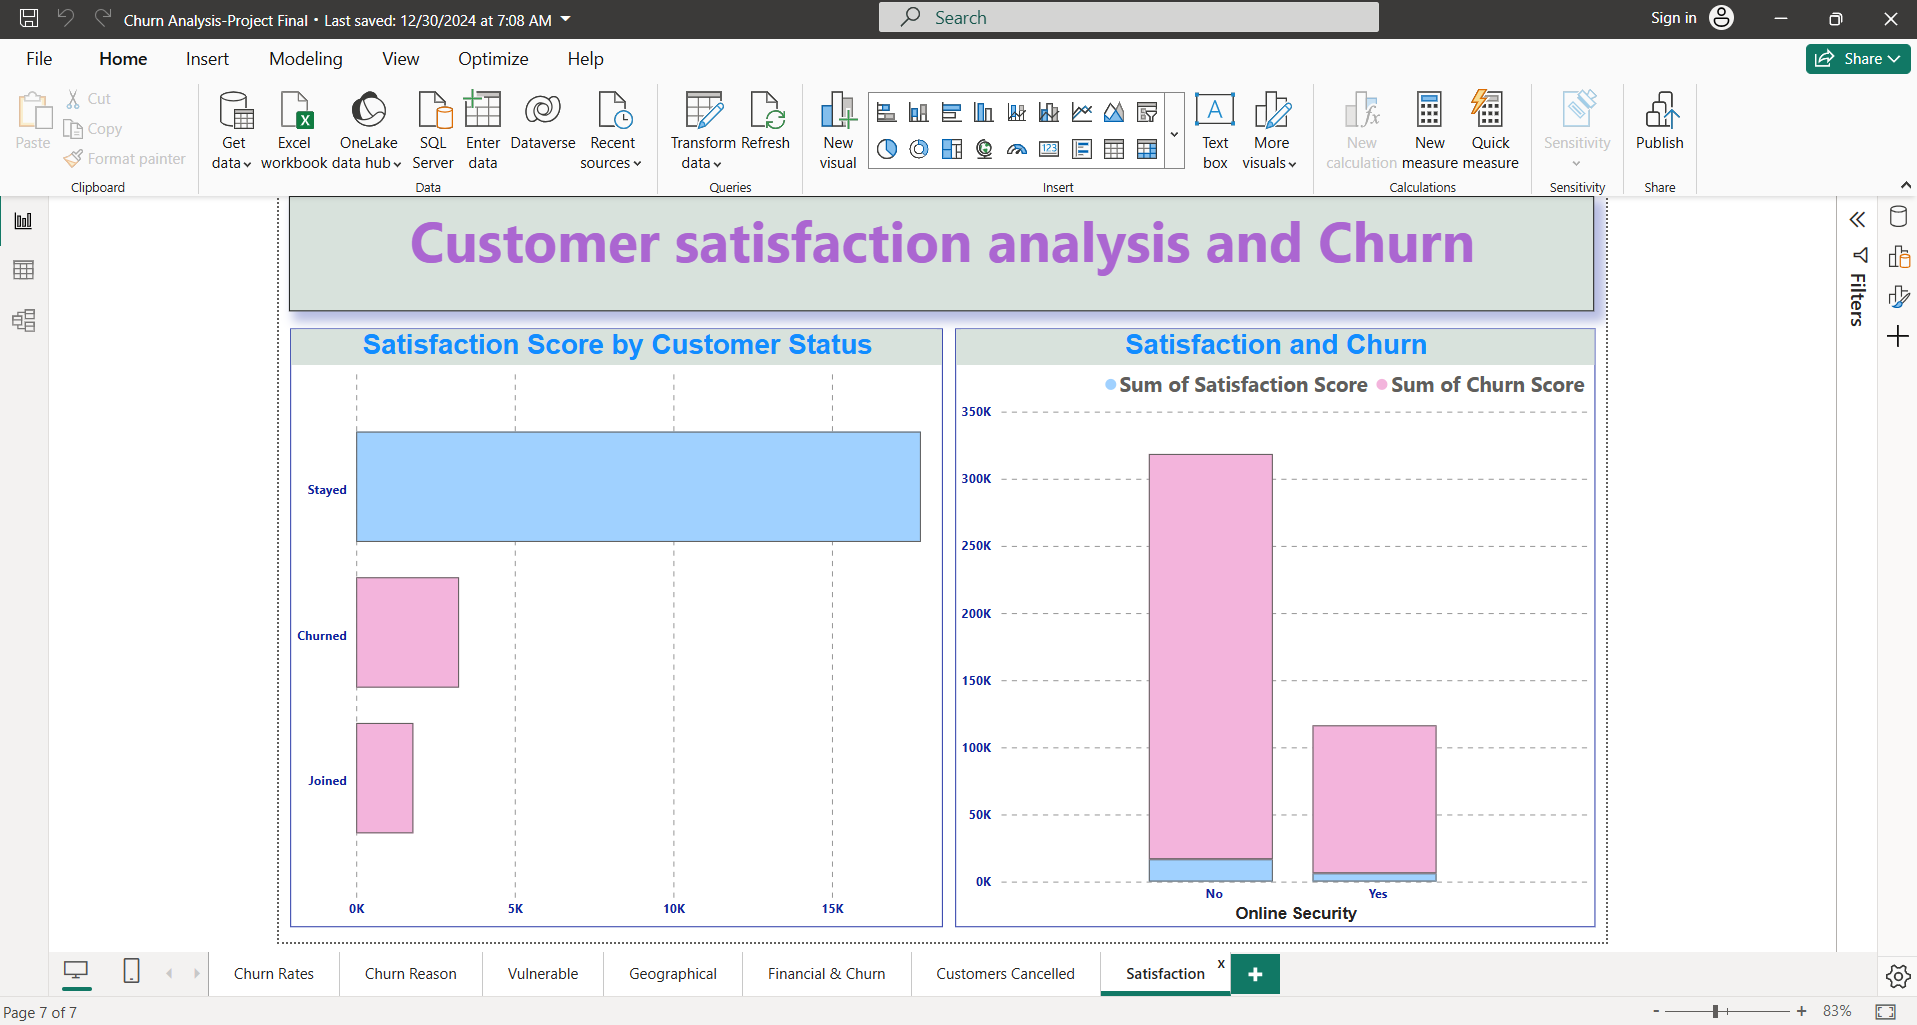

Layout of this report page (visuals, bound fields, positions):
{"tool":"powerbi","page":{"name":"Satisfaction","canvas":[1280,720],"ordinal":6},"visuals":[{"type":"textbox","box":[10.1,0,1259.5,111.1],"z":0},{"type":"clusteredBarChart","title":"Satisfaction Score by Customer Status","fields":{"Category":["Telcom_Dataset.Customer Status"],"Y":["Sum(Telcom_Dataset.Satisfaction Score)"]},"box":[10.8,127.5,629.9,577.6],"z":1},{"type":"lineStackedColumnComboChart","title":"Satisfaction and Churn","fields":{"Category":["Telcom_Dataset.Online Security"],"Y":["Sum(Telcom_Dataset.Satisfaction Score)","Sum(Telcom_Dataset.Churn Score)"]},"box":[652.9,127.5,617.6,577.6],"z":2}]}

Visuals, with their boxes on the page's 1280x720 design canvas (x1, y1, x2, y2). These are canvas units, not pixel positions in the 1917x1025 screenshot, which may show the page scaled, cropped or inside an application window:
textbox: 10,0,1270,111
"Satisfaction Score by Customer Status" clusteredBarChart: 11,128,641,705
"Satisfaction and Churn" lineStackedColumnComboChart: 653,128,1270,705
